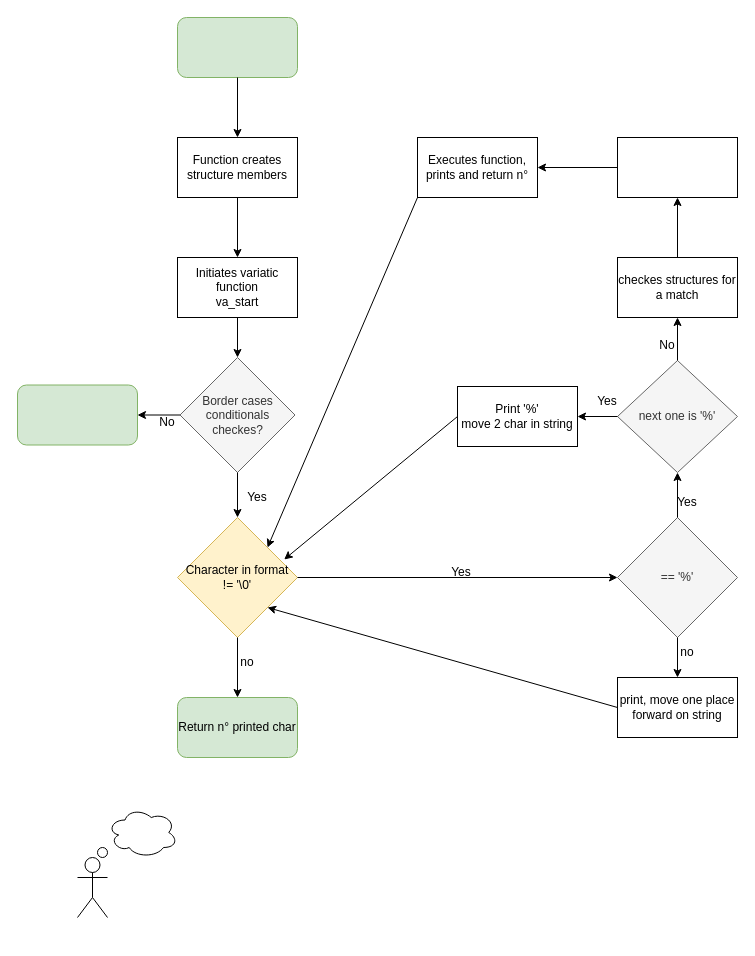
This 755x956 diagram has some shape labels left out. Here are the shapes that lost their labels. From the top down, the centre of each, then its label:
the point at 237,47: Call from main to -printf
the point at 677,167: Matches value after '%' to index char
the point at 77,414: Return (-1)
the point at 142,832: Good work!
the point at 92,887: Nacho / Javi
